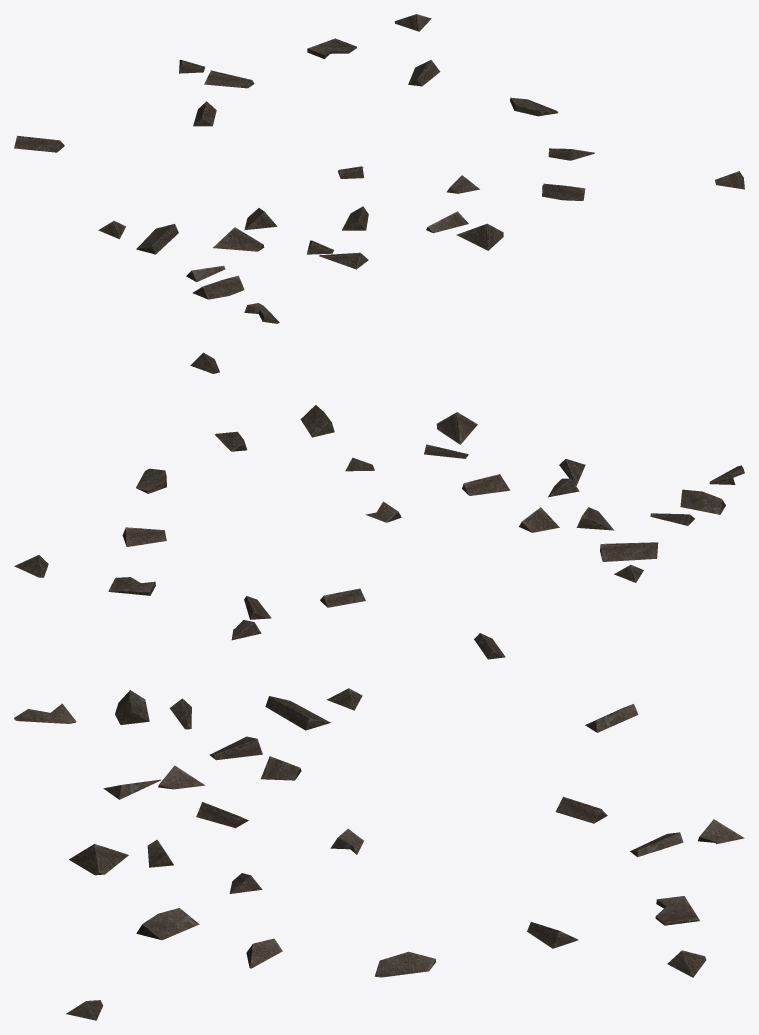
File: debris_bricks_mx_1.glb
3 renders of one model, top to bottom at view 1: azimuth 30°, elevation 25°; view 2: azimuth 150°, elevation 25°; view 3: azimuth 270°, elevation 25°, orthographic. The views are drawn at different scales.
Parts seen in each view (by area): view 1: debris_bricks_mx_1; view 2: debris_bricks_mx_1; view 3: debris_bricks_mx_1.
Part boxes in pixels (left/top/right/bottom): debris_bricks_mx_1: left=14, top=14, right=744, bottom=323; debris_bricks_mx_1: left=14, top=352, right=744, bottom=659; debris_bricks_mx_1: left=14, top=688, right=744, bottom=1020.
Bounding box in the file's own units: 2.11 × 0.0652 × 2.
Materials: 1 (1 with a texture image).
